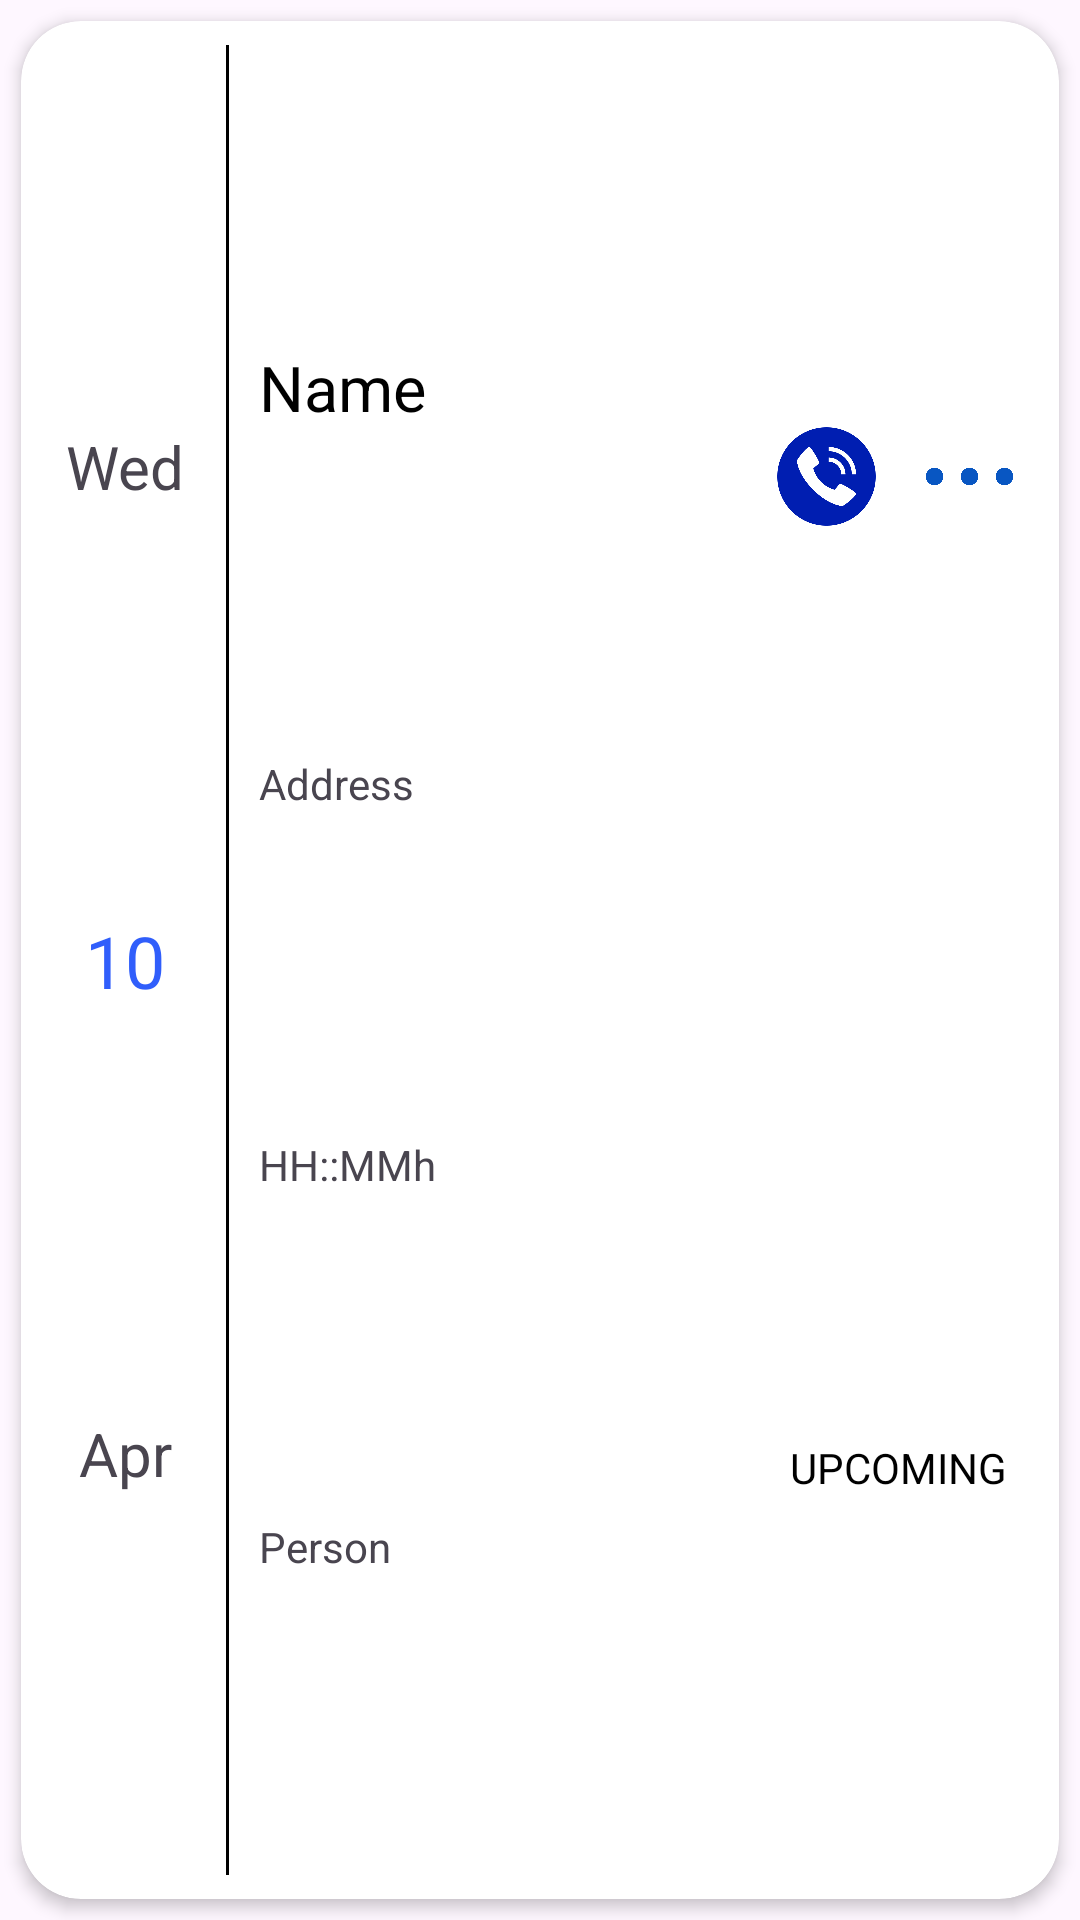

Icons on this 1080w x 1920h Android screen, each with the point to tap as (x=x, y=y):
option: (x=969, y=476)
telephone call: (x=826, y=476)
